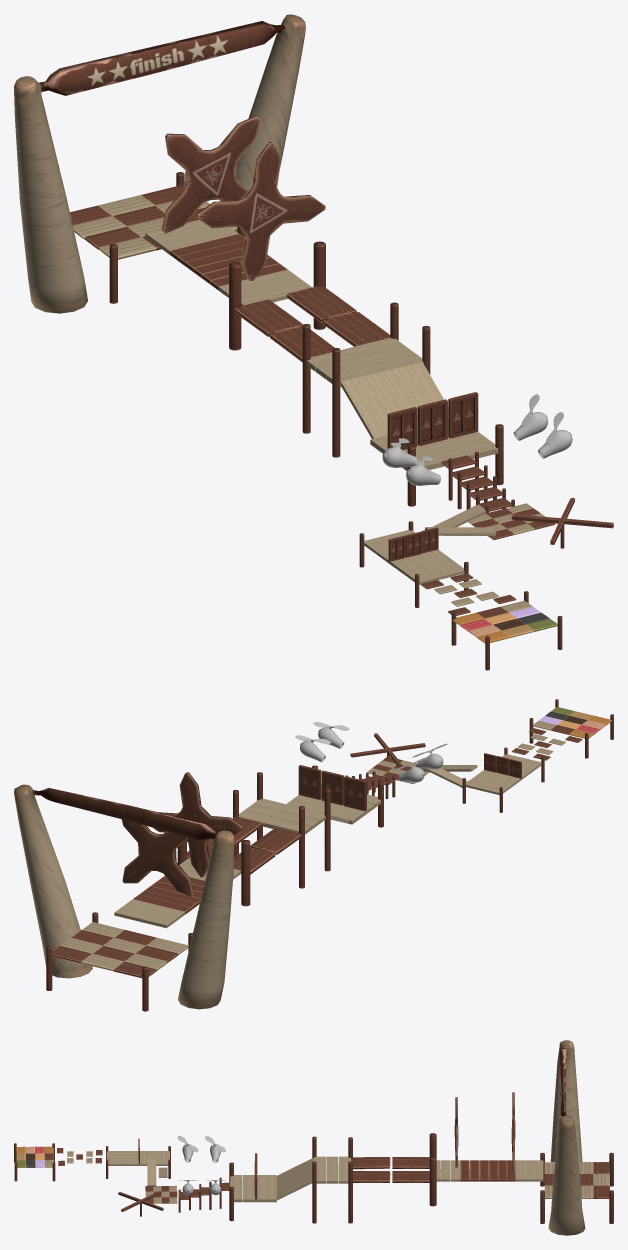
The model's file is level_2 1.fbx.
3 views of the same model, one above another, from view 1: azimuth 30°, elevation 25°; view 2: azimuth 150°, elevation 25°; view 3: azimuth 270°, elevation 25° (orthographic). The views are drawn at different scales.
Visible parts, largest first — view 1: finish_line_loo, wheel_lo, wheel_lo__1_, lo_wide_wood__8_, lo_wide_wood__7_, lo_wide_wood__6_, gate_lo__1_, gate_lo__2_, gate_lo, lo_wide_wood__5_, log_lo__12_, wood_plank_lo__20_ (+7 smaller); view 2: finish_line_loo, wheel_lo__1_, wheel_lo, lo_wide_wood__5_, gate_lo__1_, gate_lo, log_lo__12_, gate_lo__2_, wood_plank_lo__2_, wood_plank_lo__1_, log_lo__28_, wood_plank_lo (+9 smaller); view 3: finish_line_loo, lo_wide_wood__5_, lo_wide_wood__7_, lo_wide_wood__8_, lo_wide_wood__6_, log_lo__13_, wood_plank_lo__1_, wood_plank_lo__18_, wood_plank_lo__23_, log_arm, log_lo__19_, log_lo__26_ (+3 smaller).
Boxes of the visible parts, box(x1,y1,x2,y2) form: finish_line_loo: box(14, 14, 305, 313); wheel_lo: box(196, 141, 325, 280); wheel_lo__1_: box(161, 116, 259, 233); lo_wide_wood__8_: box(286, 286, 356, 322); lo_wide_wood__7_: box(234, 299, 303, 336); lo_wide_wood__6_: box(323, 312, 390, 346); gate_lo__1_: box(448, 392, 478, 438); gate_lo__2_: box(418, 399, 447, 445); gate_lo: box(387, 407, 417, 450); lo_wide_wood__5_: box(270, 326, 334, 362); log_lo__12_: box(229, 262, 241, 350); wood_plank_lo__20_: box(341, 378, 387, 438); finish_line_loo: box(14, 784, 234, 1009); wheel_lo__1_: box(121, 819, 193, 896); wheel_lo: box(153, 772, 243, 877); lo_wide_wood__5_: box(250, 827, 301, 854); gate_lo__1_: box(298, 765, 321, 799); gate_lo: box(344, 776, 366, 811); log_lo__12_: box(241, 840, 250, 906); gate_lo__2_: box(321, 770, 344, 805); wood_plank_lo__2_: box(238, 810, 310, 834); wood_plank_lo__1_: box(245, 804, 319, 829); log_lo__28_: box(324, 788, 330, 871); wood_plank_lo: box(253, 798, 325, 823); finish_line_loo: box(548, 1040, 585, 1235); lo_wide_wood__5_: box(351, 1157, 390, 1169); lo_wide_wood__7_: box(392, 1157, 429, 1168); lo_wide_wood__8_: box(392, 1171, 429, 1182); lo_wide_wood__6_: box(353, 1171, 390, 1182); log_lo__13_: box(429, 1156, 436, 1206); wood_plank_lo__1_: box(326, 1156, 338, 1183); wood_plank_lo__18_: box(242, 1175, 254, 1202); wood_plank_lo__23_: box(264, 1175, 276, 1202); log_arm: box(118, 1191, 163, 1211); log_lo__19_: box(348, 1161, 352, 1223); log_lo__26_: box(312, 1161, 316, 1223).
Size of the model in its own units: 19936 by 14739 by 59752.
19 materials, 18 textured.
